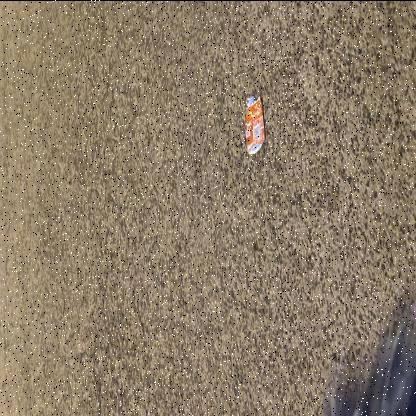metal: (245, 94, 266, 154)
